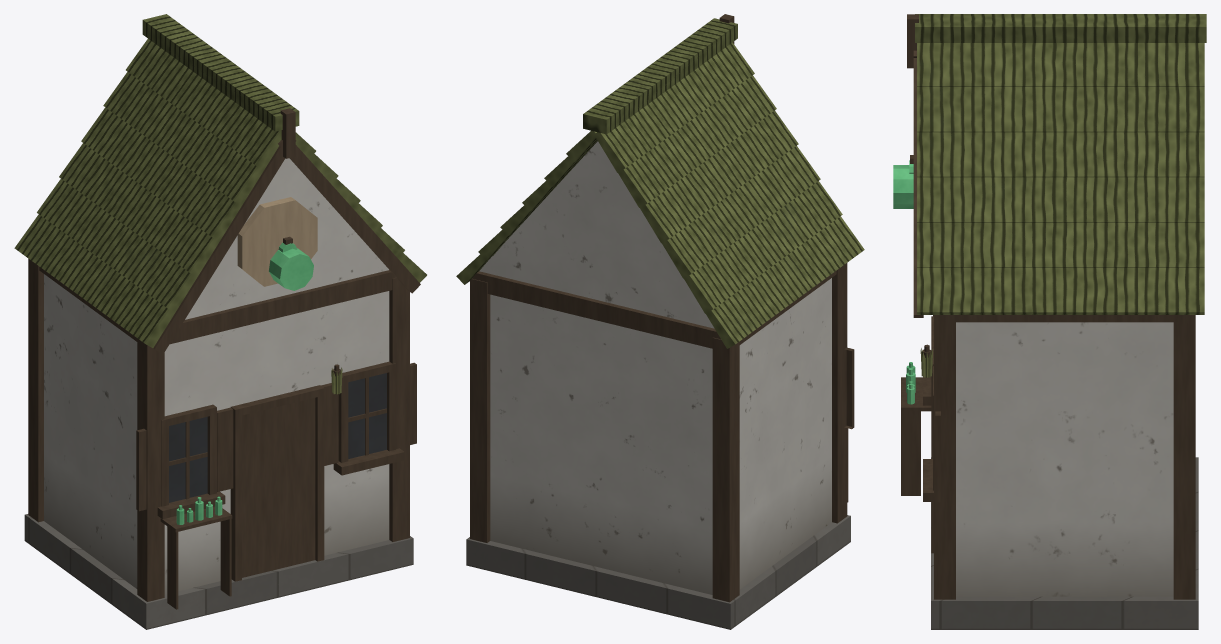
Rendered from 상점_도움소.fbx.
3 views of the same model, side by side, from view 1: azimuth 30°, elevation 25°; view 2: azimuth 150°, elevation 25°; view 3: azimuth 270°, elevation 25° (orthographic). The views are drawn at different scales.
Visible parts, largest first — view 1: 상점_도움소; view 2: 상점_도움소; view 3: 상점_도움소.
Part boxes in pixels (x1,y1,x2,y2): 상점_도움소: [14, 14, 426, 629]; 상점_도움소: [456, 14, 864, 629]; 상점_도움소: [893, 14, 1206, 629].
Size of the model in its own units: 898 by 1495 by 784.
Materials: 8 (8 with a texture image).
